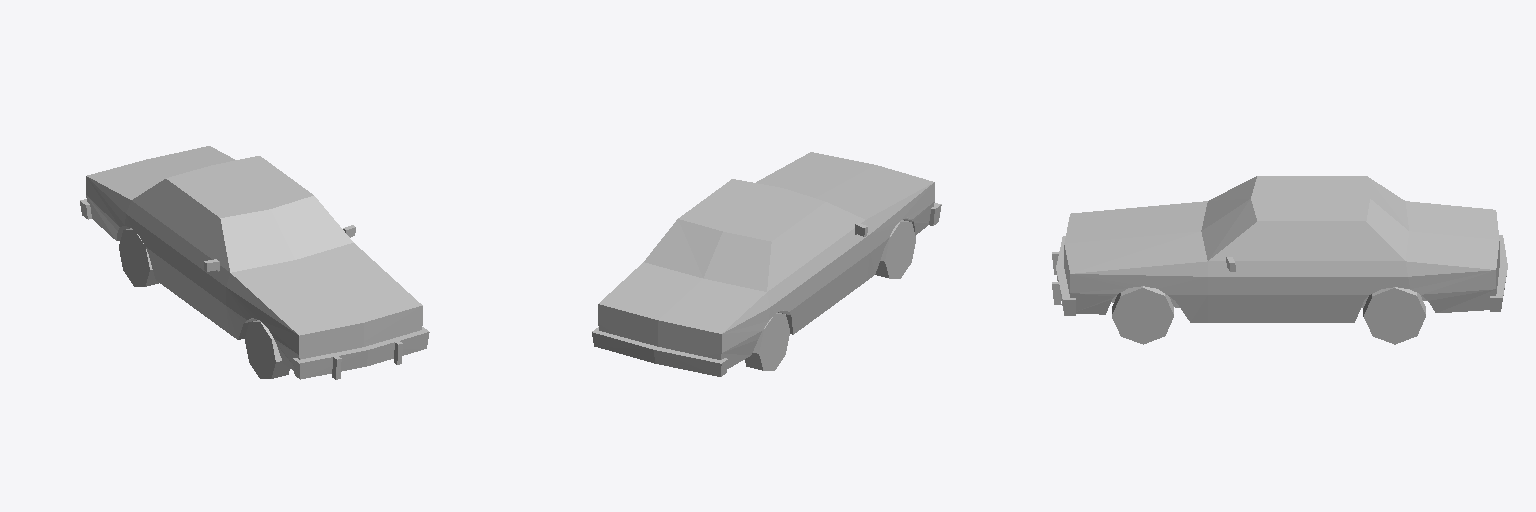
Rendered from Car5_o4.obj.
3 renders of one model, left to right at view 1: azimuth 30°, elevation 25°; view 2: azimuth 150°, elevation 25°; view 3: azimuth 270°, elevation 25°, orthographic.
Visible parts, largest first — view 1: Car5; view 2: Car5; view 3: Car5.
Part boxes in pixels (x1,y1,x2,y2): Car5: (80,146,429,379); Car5: (592,152,941,376); Car5: (1052,176,1507,344).
Size of the model in its own units: 1.27 by 0.9368 by 3.37.